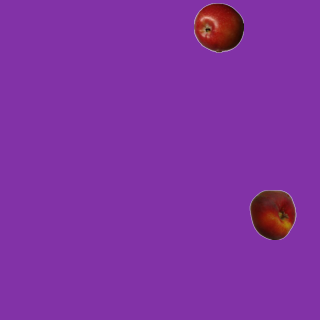Apple Braeburn: (193, 2, 243, 52)
Nectarine Flat: (247, 189, 297, 239)
